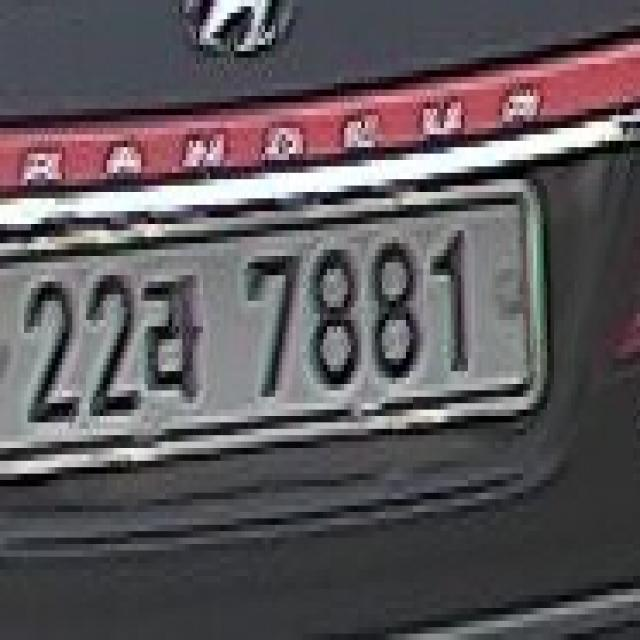1: (426, 224, 481, 385)
2: (81, 264, 148, 422), (17, 273, 84, 429)
7: (241, 241, 307, 403)
8: (307, 234, 369, 393), (369, 231, 429, 387)
la: (140, 261, 209, 415)
